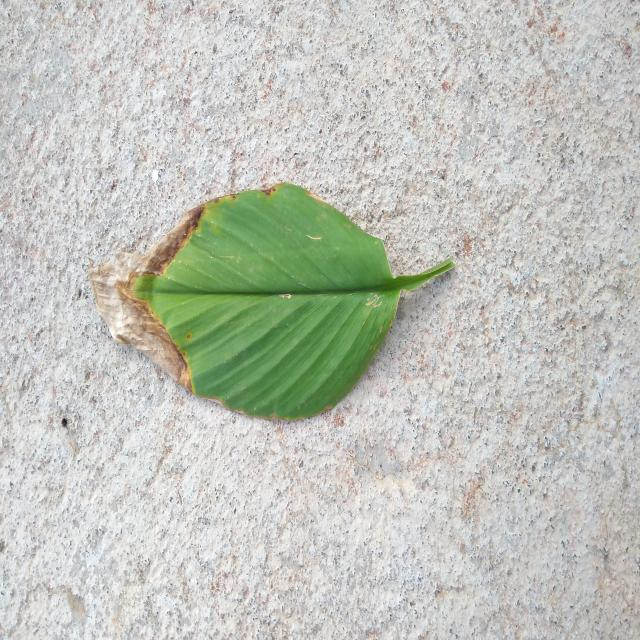leaf blotch: (91, 184, 454, 420)
